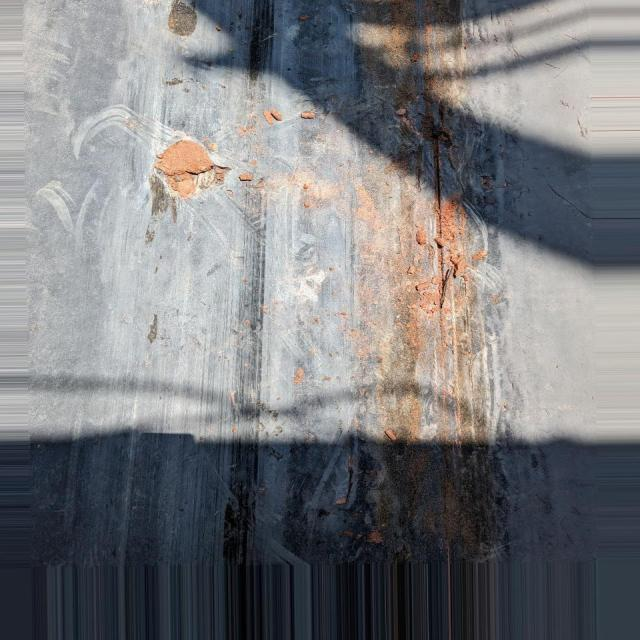Wear: (338, 0, 496, 557)
